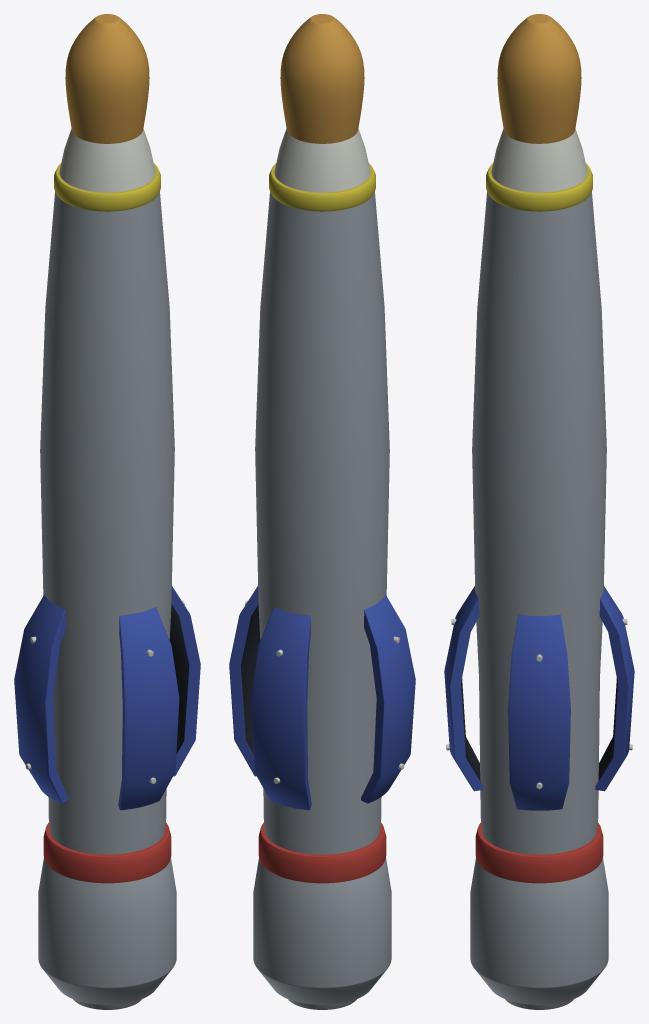
The picture shows the model from 3 angles, left to right: view 1: azimuth 30°, elevation 25°; view 2: azimuth 150°, elevation 25°; view 3: azimuth 270°, elevation 25°; orthographic projection.
Visible parts, largest first — view 1: Bug Hunter silver pressure shaft, Bug Hunter hollow gray tail casing, Bug Hunter blue stabilizer sector.001, Bug Hunter blunt gold tip, Bug Hunter blue stabilizer sector.002, Bug Hunter silver tip neck, Bug Hunter red tail collar, Bug Hunter blue stabilizer sector, Bug Hunter yellow tip ring; view 2: Bug Hunter silver pressure shaft, Bug Hunter hollow gray tail casing, Bug Hunter blue stabilizer sector.003, Bug Hunter blunt gold tip, Bug Hunter blue stabilizer sector.002, Bug Hunter silver tip neck, Bug Hunter red tail collar, Bug Hunter blue stabilizer sector, Bug Hunter yellow tip ring; view 3: Bug Hunter silver pressure shaft, Bug Hunter hollow gray tail casing, Bug Hunter blue stabilizer sector, Bug Hunter blunt gold tip, Bug Hunter silver tip neck, Bug Hunter red tail collar, Bug Hunter blue stabilizer sector.001, Bug Hunter blue stabilizer sector.003, Bug Hunter yellow tip ring.
Boxes of the visible parts, bbox=[...] form: Bug Hunter silver pressure shaft: bbox=[40, 191, 174, 854]; Bug Hunter hollow gray tail casing: bbox=[38, 858, 176, 1004]; Bug Hunter blue stabilizer sector.001: bbox=[118, 607, 179, 810]; Bug Hunter blunt gold tip: bbox=[65, 14, 149, 143]; Bug Hunter blue stabilizer sector.002: bbox=[14, 594, 68, 803]; Bug Hunter silver tip neck: bbox=[59, 128, 155, 192]; Bug Hunter red tail collar: bbox=[43, 822, 171, 883]; Bug Hunter blue stabilizer sector: bbox=[169, 586, 200, 776]; Bug Hunter yellow tip ring: bbox=[54, 163, 160, 211]; Bug Hunter silver pressure shaft: bbox=[255, 191, 389, 854]; Bug Hunter hollow gray tail casing: bbox=[253, 858, 391, 1004]; Bug Hunter blue stabilizer sector.003: bbox=[250, 607, 311, 810]; Bug Hunter blunt gold tip: bbox=[280, 14, 364, 143]; Bug Hunter blue stabilizer sector.002: bbox=[361, 594, 415, 803]; Bug Hunter silver tip neck: bbox=[274, 128, 370, 192]; Bug Hunter red tail collar: bbox=[258, 822, 386, 883]; Bug Hunter blue stabilizer sector: bbox=[229, 586, 260, 776]; Bug Hunter yellow tip ring: bbox=[269, 163, 375, 211]; Bug Hunter silver pressure shaft: bbox=[472, 191, 606, 854]; Bug Hunter hollow gray tail casing: bbox=[470, 858, 608, 1004]; Bug Hunter blue stabilizer sector: bbox=[508, 614, 570, 810]; Bug Hunter blunt gold tip: bbox=[497, 14, 581, 143]; Bug Hunter silver tip neck: bbox=[491, 128, 587, 192]; Bug Hunter red tail collar: bbox=[475, 822, 603, 883]; Bug Hunter blue stabilizer sector.001: bbox=[444, 586, 483, 791]; Bug Hunter blue stabilizer sector.003: bbox=[595, 586, 634, 791]; Bug Hunter yellow tip ring: bbox=[486, 163, 592, 211].
Bounding box in the file's own units: 1.1 × 6.23 × 1.1.
